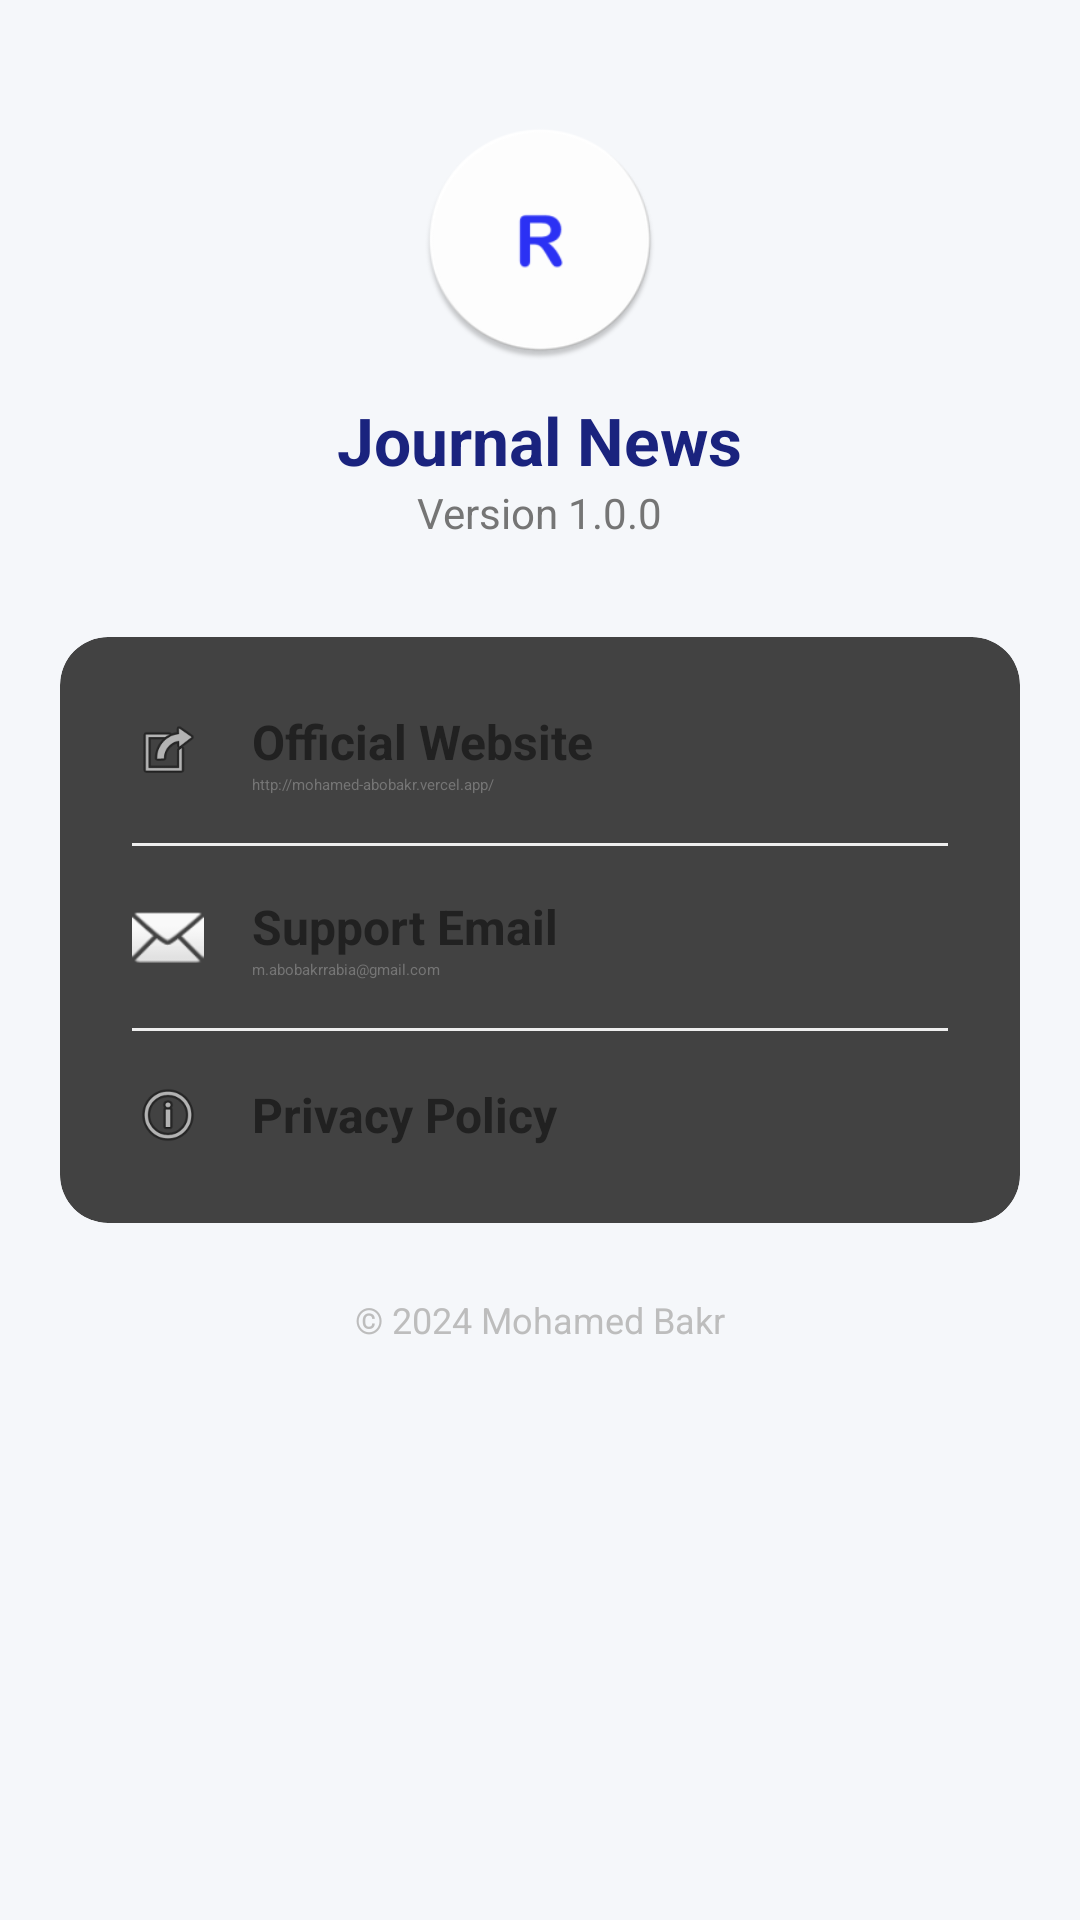

Locate icon controls on the screen. Image size 1080px x 1920px, boxes as (x1, y1, x2, y2).
info details: (143, 1090, 193, 1140)
set as: (144, 727, 193, 772)
